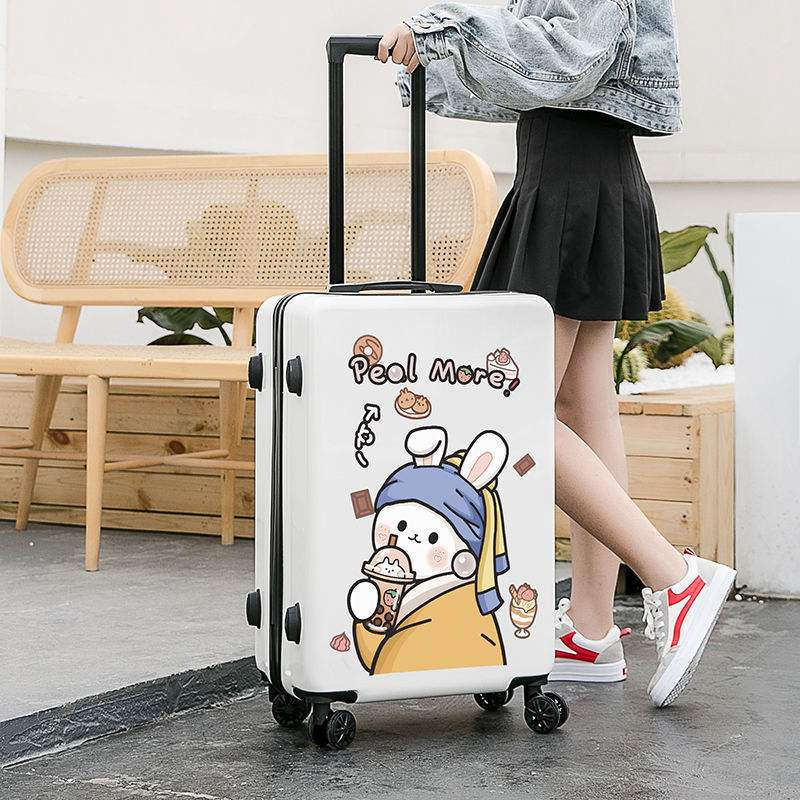box: (254, 291, 556, 703)
handle: (328, 280, 466, 295)
wheel: (308, 709, 357, 749), (523, 691, 570, 731), (272, 692, 312, 725), (473, 686, 514, 710)
